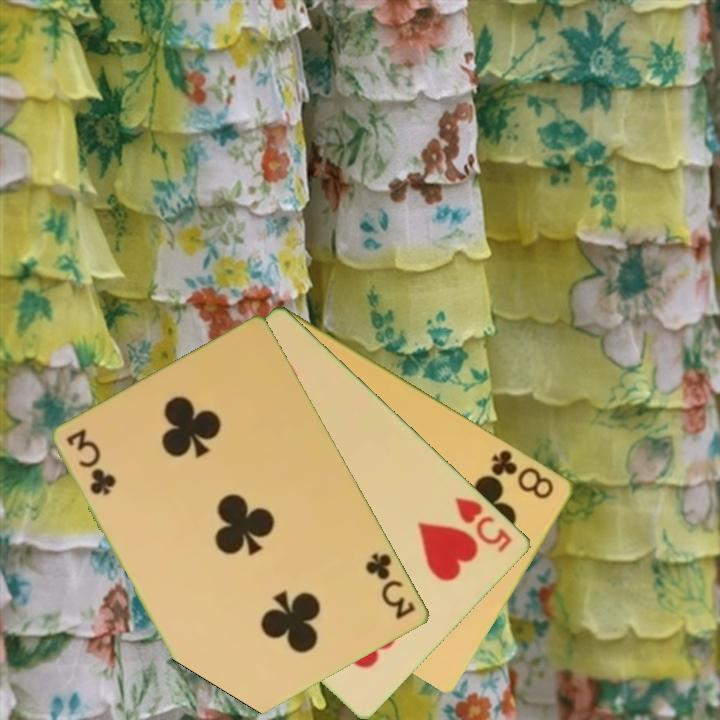3c: (362, 549, 419, 623), (63, 426, 118, 499)
5h: (451, 493, 516, 556)
8c: (487, 446, 557, 502)
